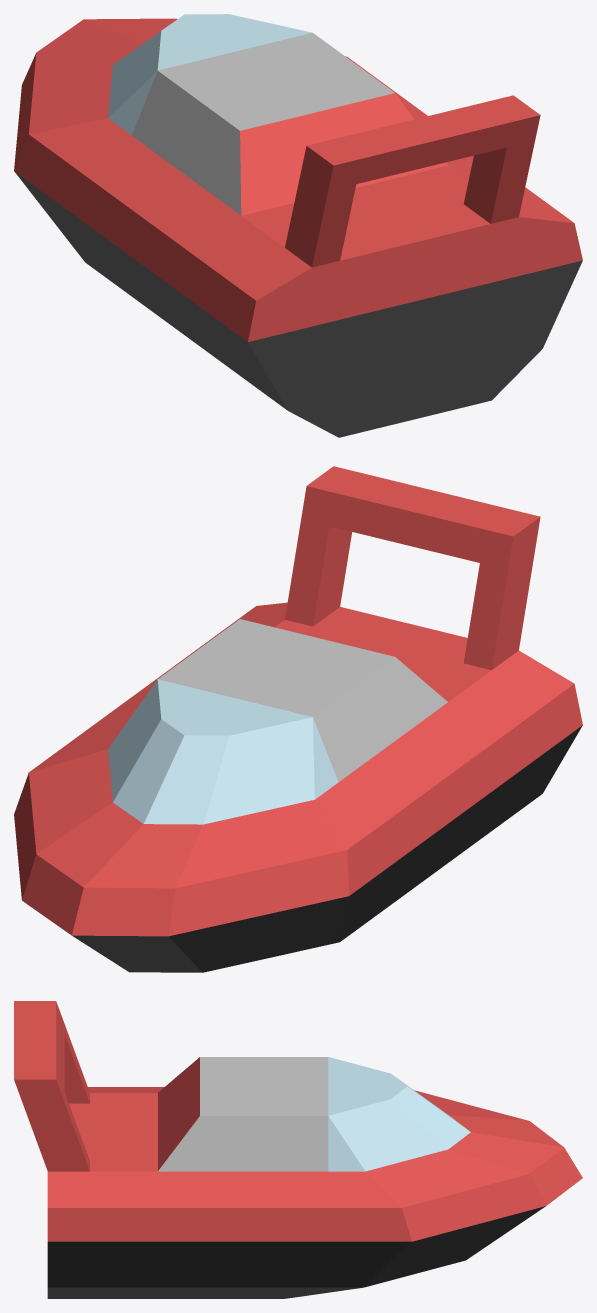
Rendered from boat_017.fbx.
3 renders of one model, top to bottom at view 1: azimuth 30°, elevation 25°; view 2: azimuth 150°, elevation 25°; view 3: azimuth 270°, elevation 25°, orthographic. The views are drawn at different scales.
Parts seen in each view (by area): view 1: boat_017; view 2: boat_017; view 3: boat_017.
Boxes of the visible parts, x1,y1,x2,y2 form: boat_017: (14, 14, 582, 437); boat_017: (14, 466, 582, 972); boat_017: (14, 1001, 582, 1298).
Size of the model in its own units: 17.85 by 15 by 33.7.
